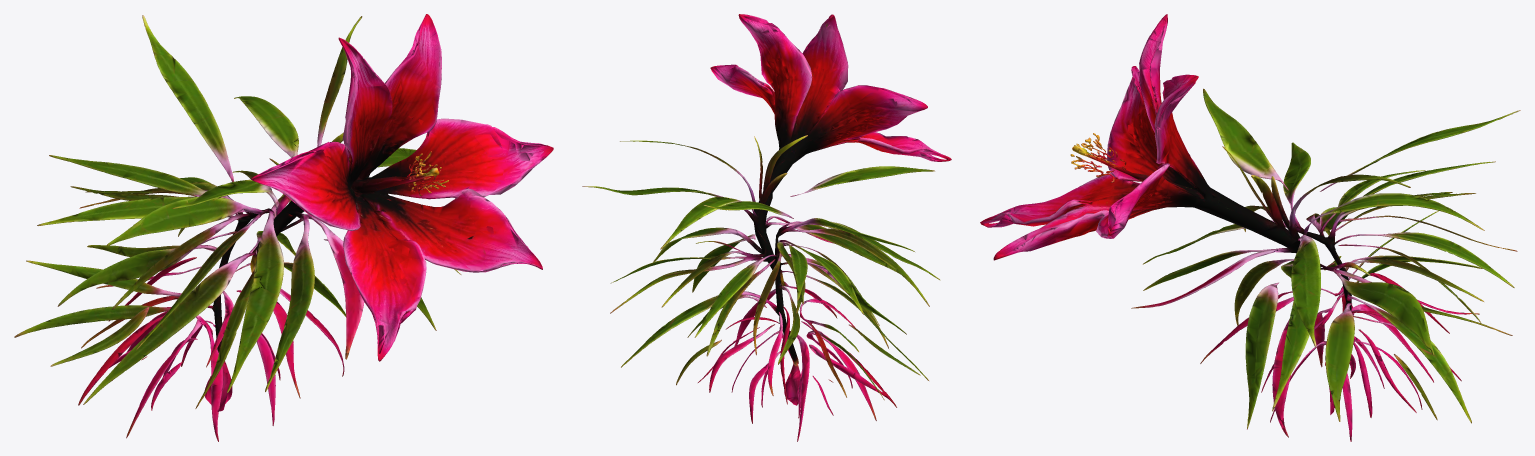
File: field_flower_2.glb
The picture shows the model from 3 angles, left to right: view 1: azimuth 30°, elevation 25°; view 2: azimuth 150°, elevation 25°; view 3: azimuth 270°, elevation 25°; orthographic projection. The views are drawn at different scales.
Bounding box in the file's own units: 1.76 × 1.62 × 1.9.
Materials: 1 (1 with a texture image).
